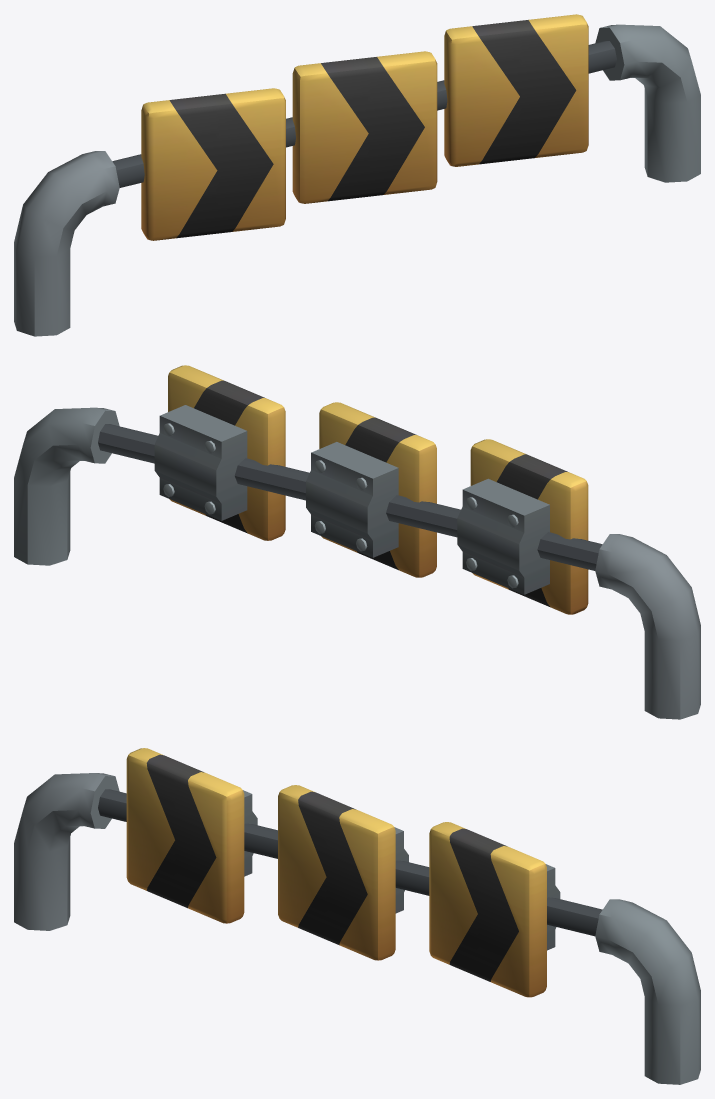
File: kit-arah-kanan.glb
3 views of the same model, one above another, from view 1: azimuth 30°, elevation 25°; view 2: azimuth 150°, elevation 25°; view 3: azimuth 330°, elevation 25° (orthographic).
Parts seen in each view (by area): view 1: signage_arrows_right; view 2: signage_arrows_right; view 3: signage_arrows_right.
Part boxes in pixels (x1,y1,x2,y2): signage_arrows_right: (14, 14, 700, 336); signage_arrows_right: (14, 365, 700, 719); signage_arrows_right: (14, 748, 700, 1084).
Size of the model in its own units: 4.68 by 1.3 by 0.5868.
1 material, 1 textured.
